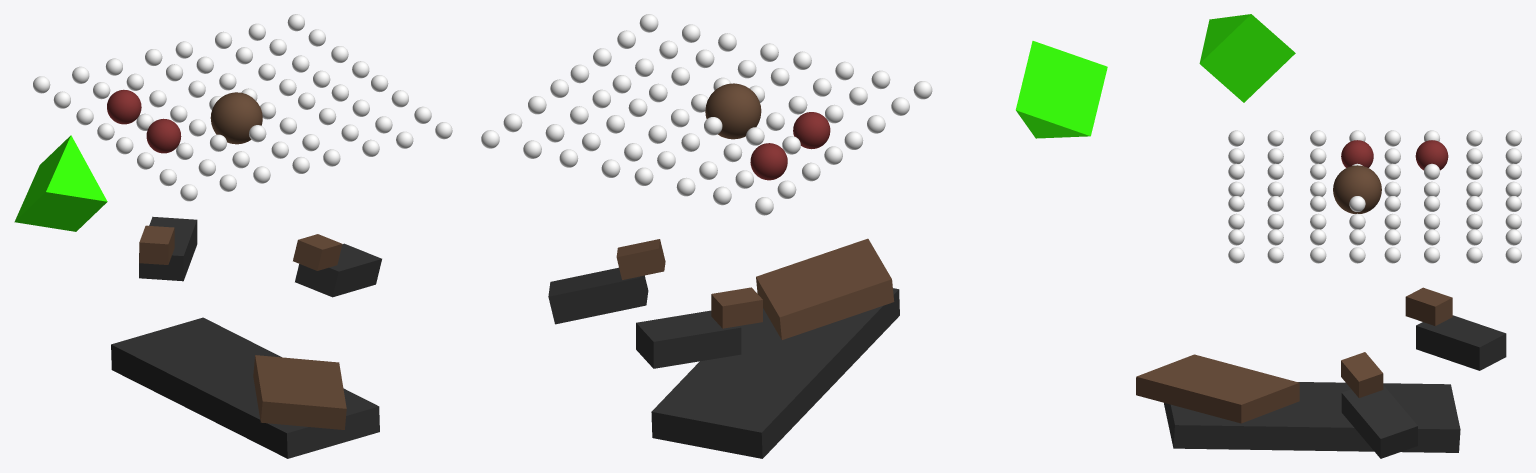
File: compound_scene.glb
3 renders of one model, left to right at view 1: azimuth 30°, elevation 25°; view 2: azimuth 150°, elevation 25°; view 3: azimuth 270°, elevation 25°, orthographic. The views are drawn at different scales.
Visible parts, largest first — view 1: Child_Cube_1 (×3), Child_Cube_2 (×3), Prism, Sphere (36), Sphere (35), Sphere (32); view 2: Child_Cube_1 (×3), Child_Cube_2 (×3), Prism, Sphere (36), Sphere (35), Sphere (32); view 3: Child_Cube_1 (×3), Child_Cube_2 (×3), Prism, Sphere (36), Sphere (35), Sphere (32).
Boxes of the visible parts, bbox=[...] form: Child_Cube_1 (×3): bbox=[111, 216, 381, 458]; Child_Cube_2 (×3): bbox=[139, 225, 346, 429]; Prism: bbox=[14, 135, 107, 231]; Sphere (36): bbox=[210, 92, 262, 144]; Sphere (35): bbox=[107, 89, 141, 124]; Sphere (32): bbox=[146, 118, 181, 153]; Child_Cube_1 (×3): bbox=[548, 267, 899, 458]; Child_Cube_2 (×3): bbox=[616, 238, 894, 339]; Prism: bbox=[1015, 41, 1107, 138]; Sphere (36): bbox=[705, 83, 761, 139]; Sphere (35): bbox=[750, 143, 787, 180]; Sphere (32): bbox=[793, 112, 830, 149]; Child_Cube_1 (×3): bbox=[1164, 315, 1506, 458]; Child_Cube_2 (×3): bbox=[1136, 287, 1452, 423]; Prism: bbox=[1199, 14, 1295, 102]; Sphere (36): bbox=[1333, 165, 1381, 213]; Sphere (35): bbox=[1415, 140, 1448, 170]; Sphere (32): bbox=[1341, 140, 1373, 167].
Size of what is drawn, in the model's own units: 7.23 by 5.52 by 5.9.
